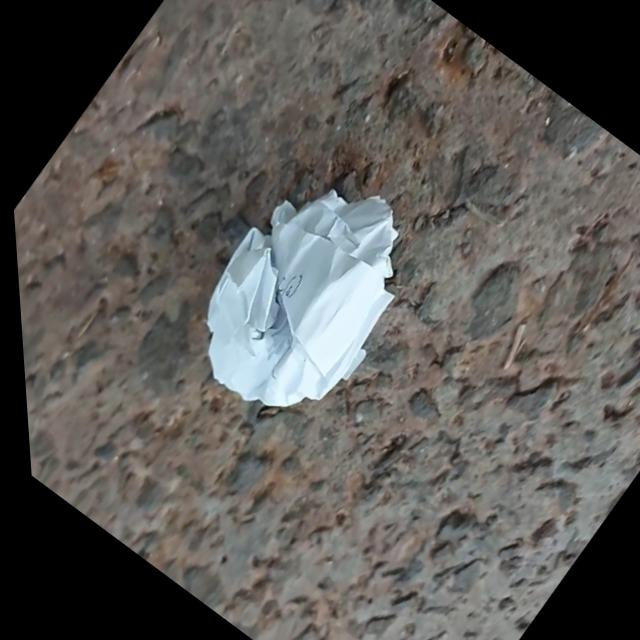paper: (129, 129, 477, 471)
